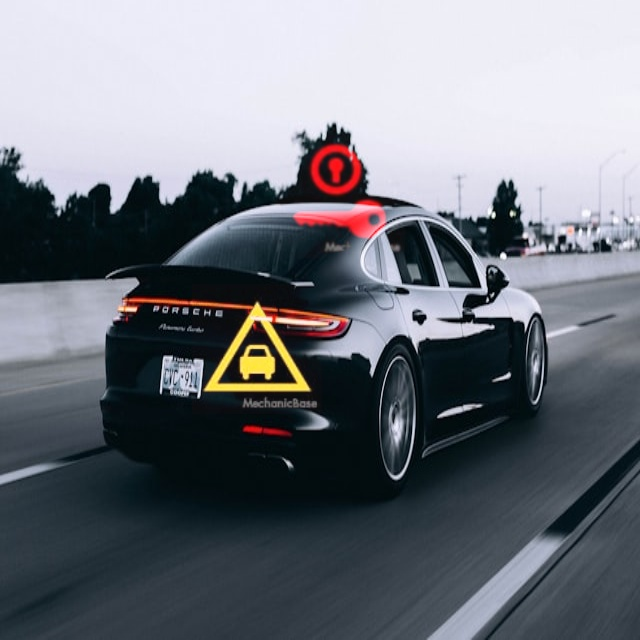symbol: (274, 127, 405, 258), (192, 284, 322, 414)
